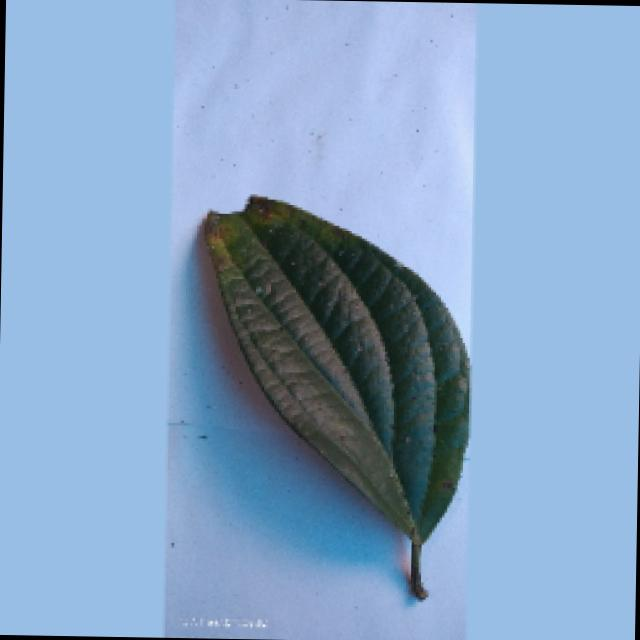slow-decline: (182, 185, 480, 600)
